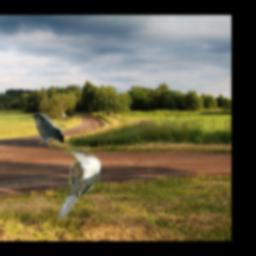Crow: (28, 114, 64, 145)
Cuckoo: (58, 148, 102, 219)
